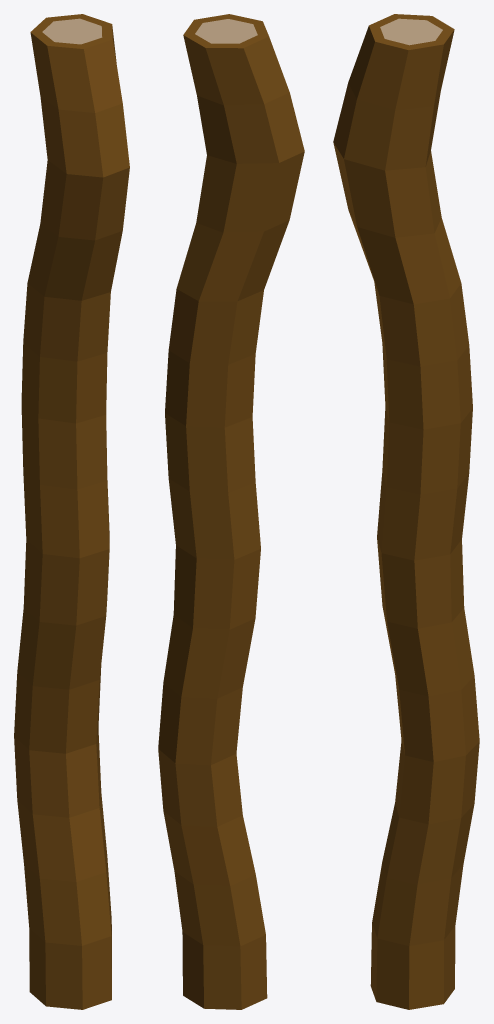
Rendered from palo.glb.
3 views of the same model, side by side, from view 1: azimuth 90°, elevation 25°; view 2: azimuth 150°, elevation 25°; view 3: azimuth 330°, elevation 25° (orthographic).
Visible parts, largest first — view 1: Palo; view 2: Palo; view 3: Palo.
Boxes of the visible parts, x1,y1,x2,y2 form: Palo: (14,14,129,1009); Palo: (158,14,304,1009); Palo: (333,14,479,1009).
Size of the model in its own units: 0.9526 by 7.52 by 0.8218.
